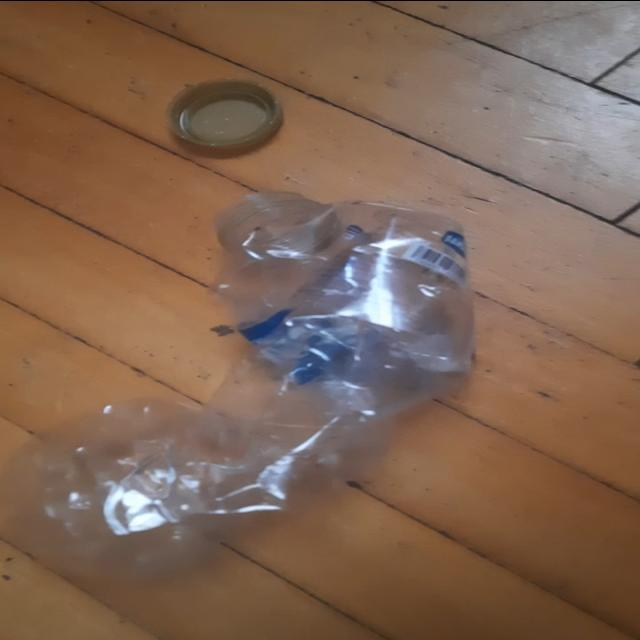Plastic: (37, 197, 476, 535)
